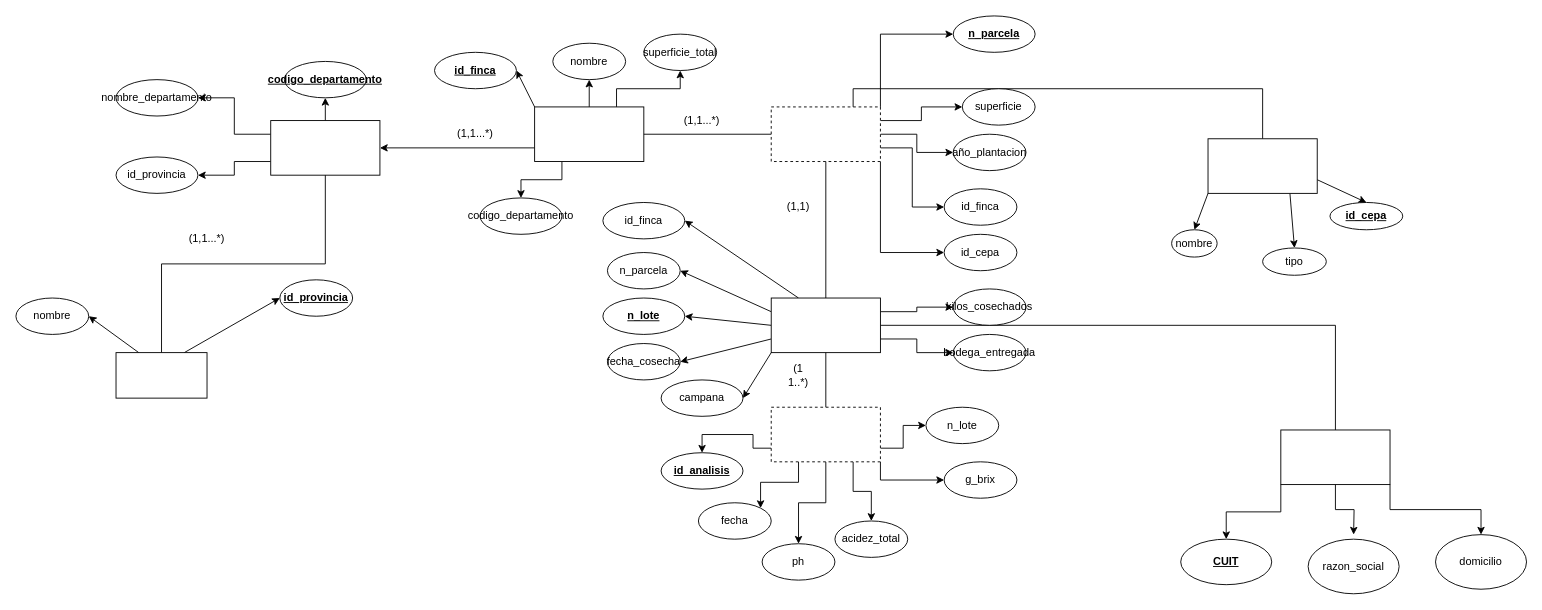
The diagram is 1542 pixels wide and 610 high, and some of its shapes have lost their labels. Each missing label, with the centre of its shape:
Analisis_calidad: [825,434]
Bodega: [1335,457]
Cepa: [1262,165]
Departamento: [325,147]
Finca: [589,134]
Lote_uva: [825,325]
Parcela: [825,134]
Provincia: [161,375]
